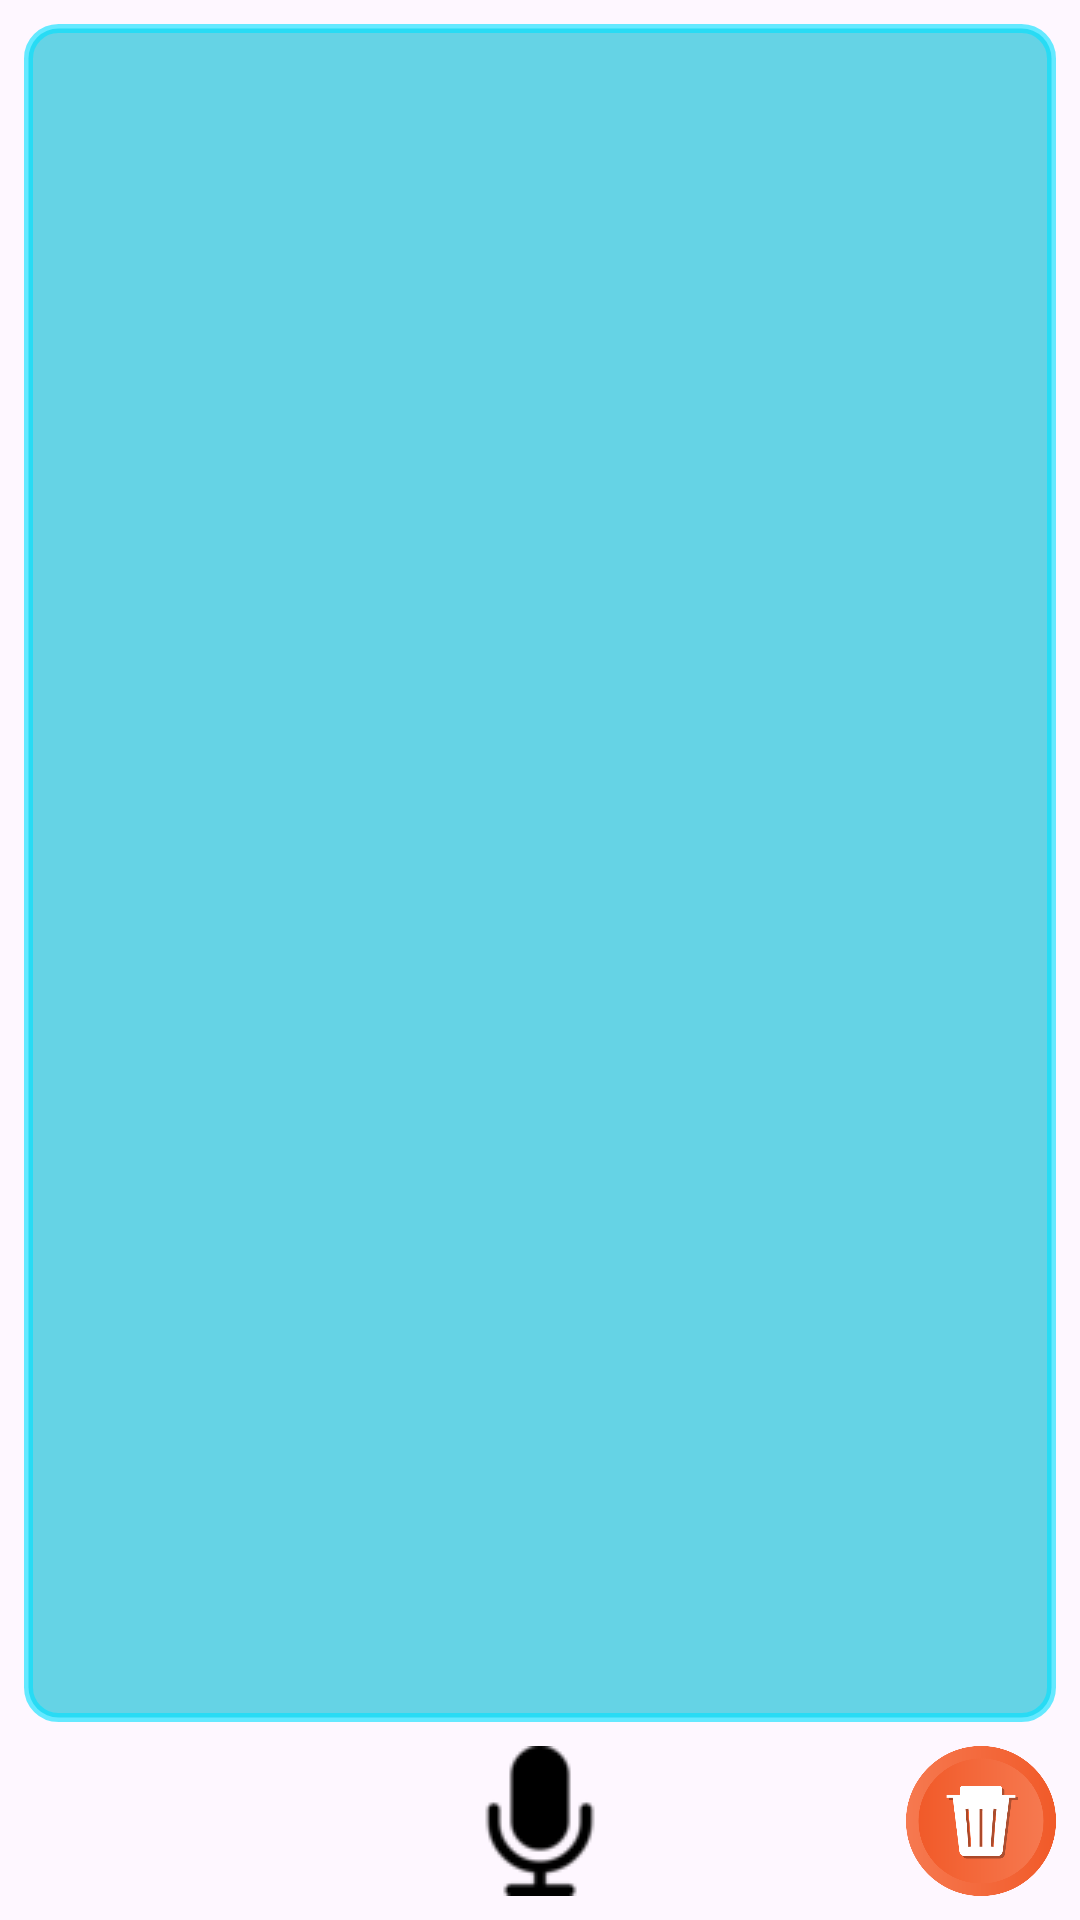

Icon bounding boxes for this 1080w x 1920h phone screenshot, format BBox(x1, y1, x2, y2):
micro: BBox(485, 1746, 595, 1896)
